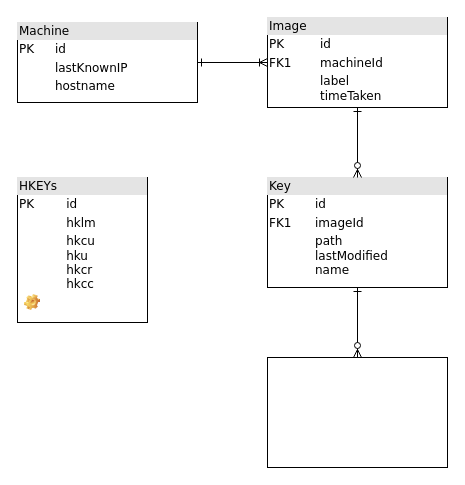
Image size: 465x485. Some labels were removed from this diagram. Here are the shapes that lost their labels. From the top down, the centre of each, then its label:
the point at 87,302: trg_onlyOneHKEY
the point at 357,412: KeyValue PK id FK1 keyId name type data
